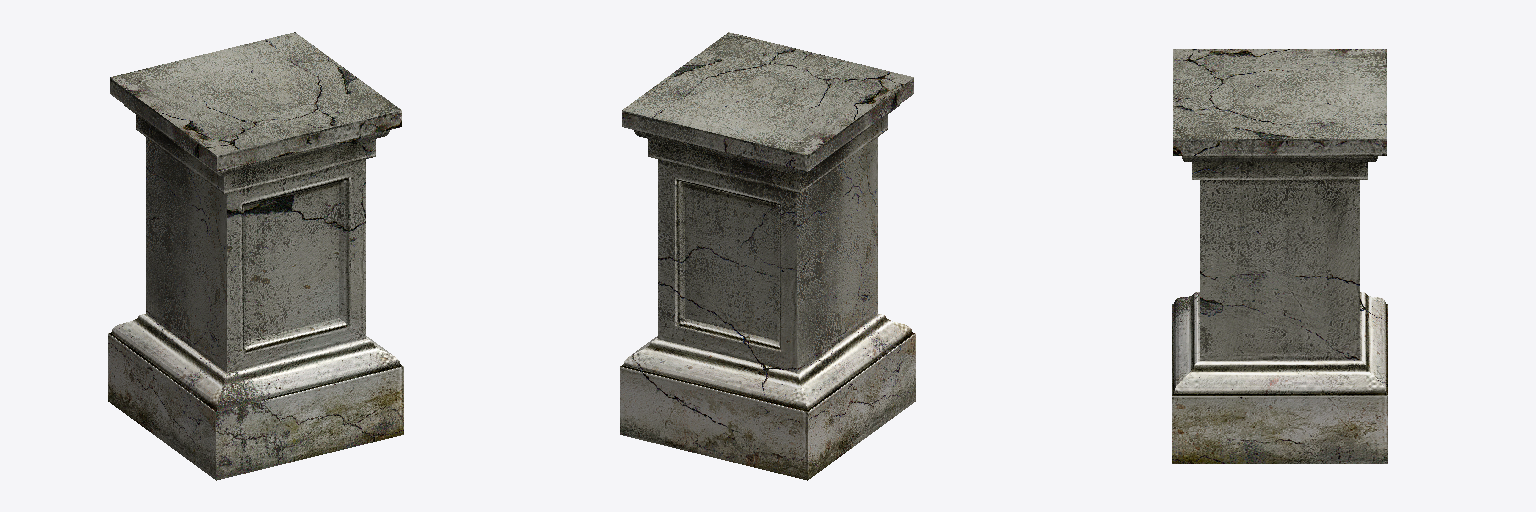
3 renders of one model, left to right at view 1: azimuth 30°, elevation 25°; view 2: azimuth 150°, elevation 25°; view 3: azimuth 270°, elevation 25°, orthographic.
Visible parts, largest first — view 1: pedestal2; view 2: pedestal2; view 3: pedestal2.
Part boxes in pixels (bbox=[...]): pedestal2: bbox=[108, 32, 403, 480]; pedestal2: bbox=[620, 32, 915, 480]; pedestal2: bbox=[1172, 49, 1387, 463].
Size of the model in its own units: 0.612 by 1.01 by 0.612.
Materials: 1 (1 with a texture image).